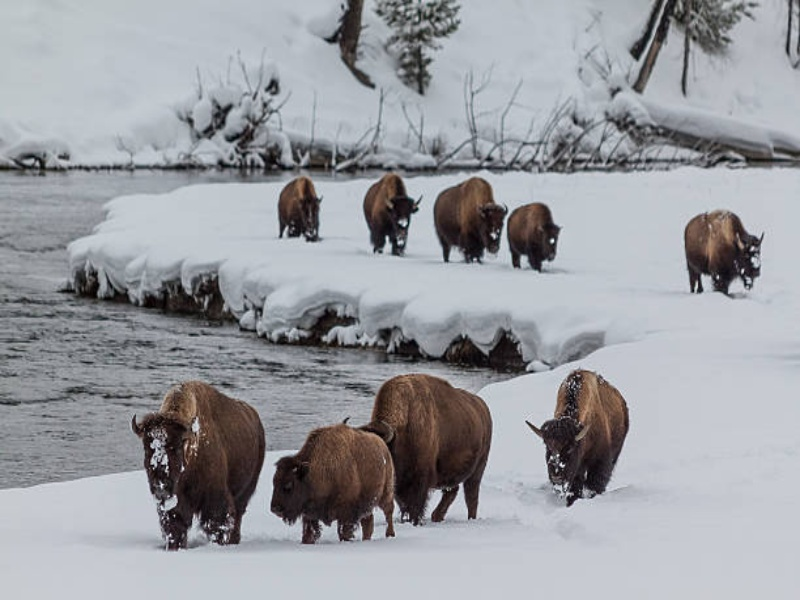buffalo: (124, 356, 495, 542)
